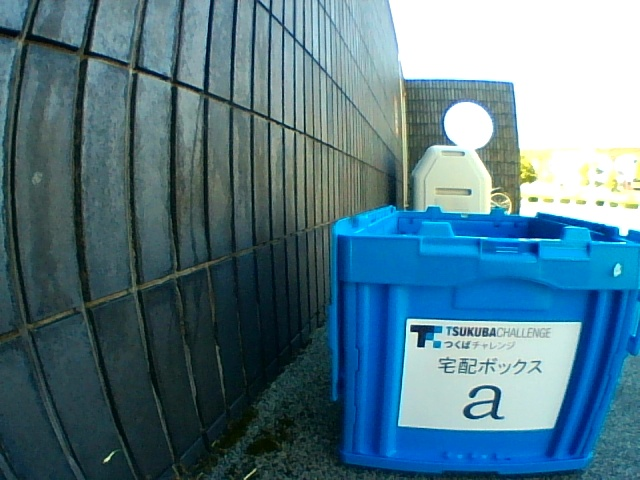blue_box: (331, 205, 640, 475)
tag_a: (410, 323, 554, 424)
